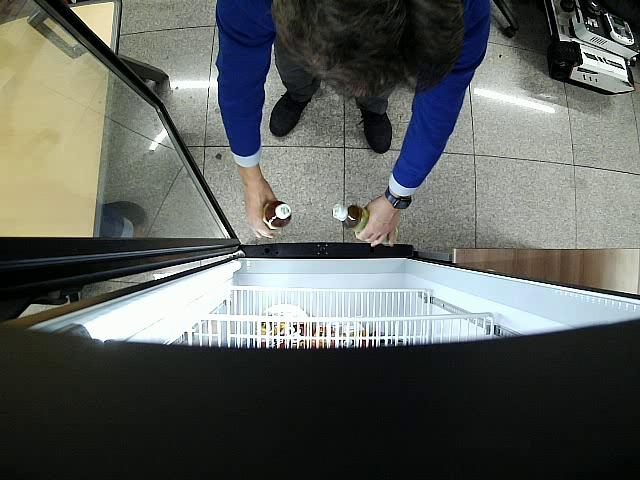00_hand: (241, 169, 278, 240), (355, 206, 400, 247)
19_17cha: (334, 203, 399, 244), (262, 200, 292, 229)
